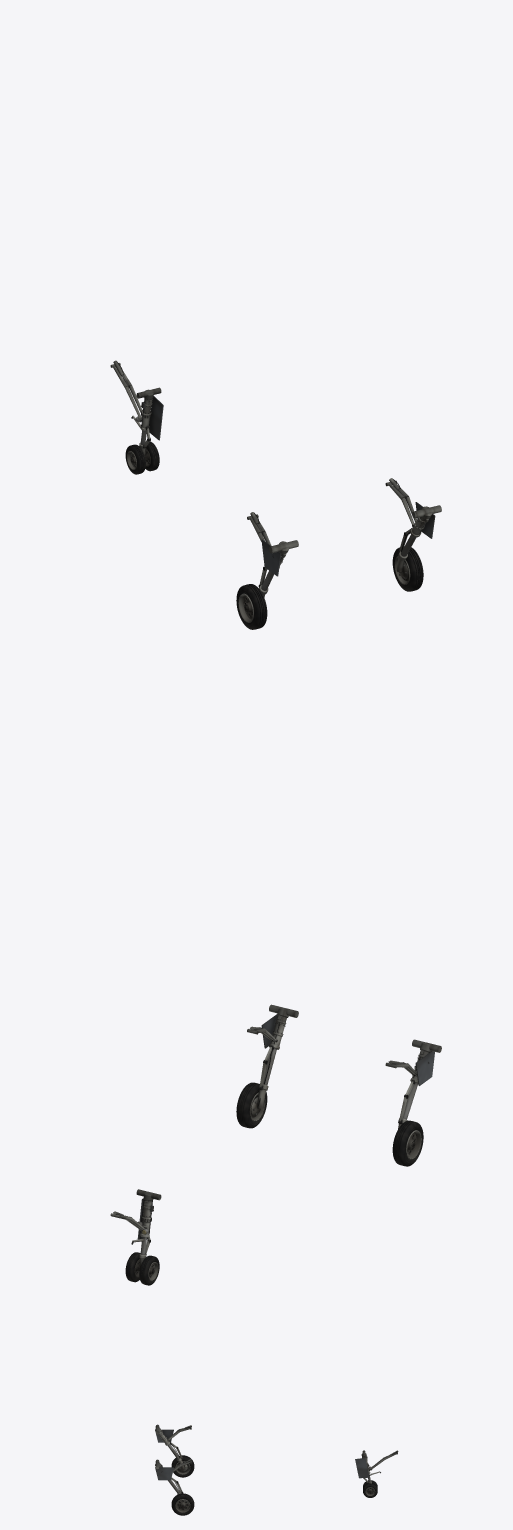
The model's file is rafale_gear.glb.
3 views of the same model, one above another, from view 1: azimuth 30°, elevation 25°; view 2: azimuth 150°, elevation 25°; view 3: azimuth 270°, elevation 25° (orthographic). The views are drawn at different scales.
Parts seen in each view (by area): view 1: gear_n, gear_w_l, gear_m_r, gear_m_l, gear_w_r; view 2: gear_n, gear_m_r, gear_m_l, gear_w_l, gear_w_r; view 3: gear_n, gear_w_r, gear_m_l, gear_m_r, gear_w_l.
Part boxes in pixels (left/top/right/bottom): gear_n: left=125, top=387, right=163, bottom=474; gear_w_l: left=236, top=584, right=267, bottom=629; gear_m_r: left=396, top=502, right=441, bottom=571; gear_m_l: left=258, top=539, right=298, bottom=597; gear_w_r: left=392, top=547, right=423, bottom=591; gear_n: left=125, top=1189, right=161, bottom=1285; gear_m_r: left=257, top=1004, right=298, bottom=1108; gear_m_l: left=398, top=1039, right=441, bottom=1128; gear_w_l: left=392, top=1120, right=423, bottom=1166; gear_w_r: left=236, top=1082, right=267, bottom=1128; gear_n: left=355, top=1450, right=380, bottom=1497; gear_w_r: left=171, top=1493, right=194, bottom=1515; gear_m_l: left=155, top=1424, right=185, bottom=1468; gear_m_r: left=155, top=1459, right=183, bottom=1494; gear_w_l: left=171, top=1455, right=194, bottom=1477.
Bounding box in the file's own units: 3.08 × 6.31 × 15.27.
Materials: 1 (1 with a texture image).
